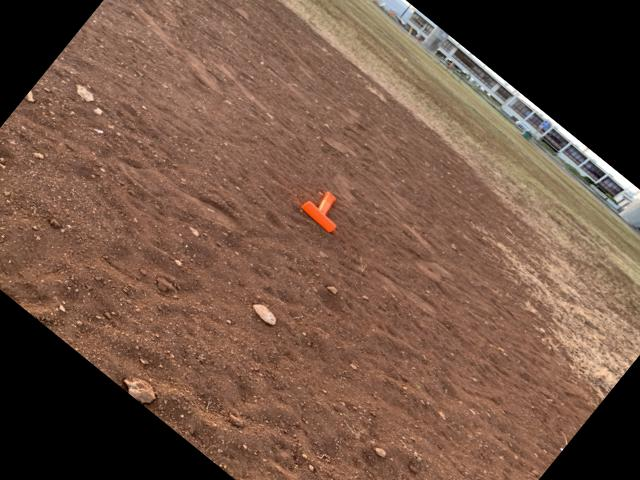hammer: (298, 184, 352, 236)
